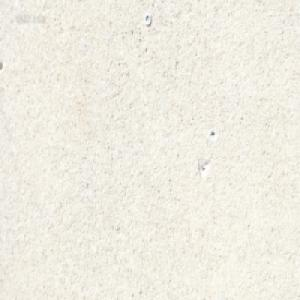Washer: (144, 12, 151, 26)
